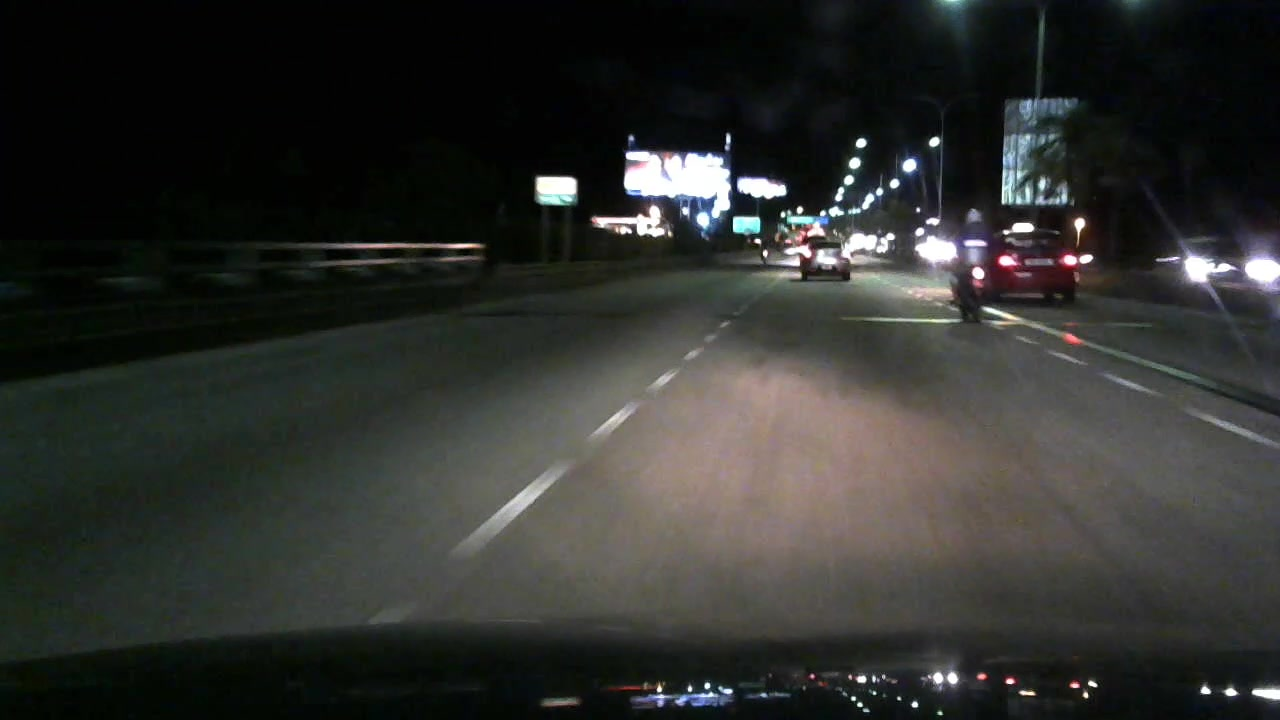Car: (973, 210, 1093, 305), (1157, 228, 1280, 293), (796, 234, 854, 289)
